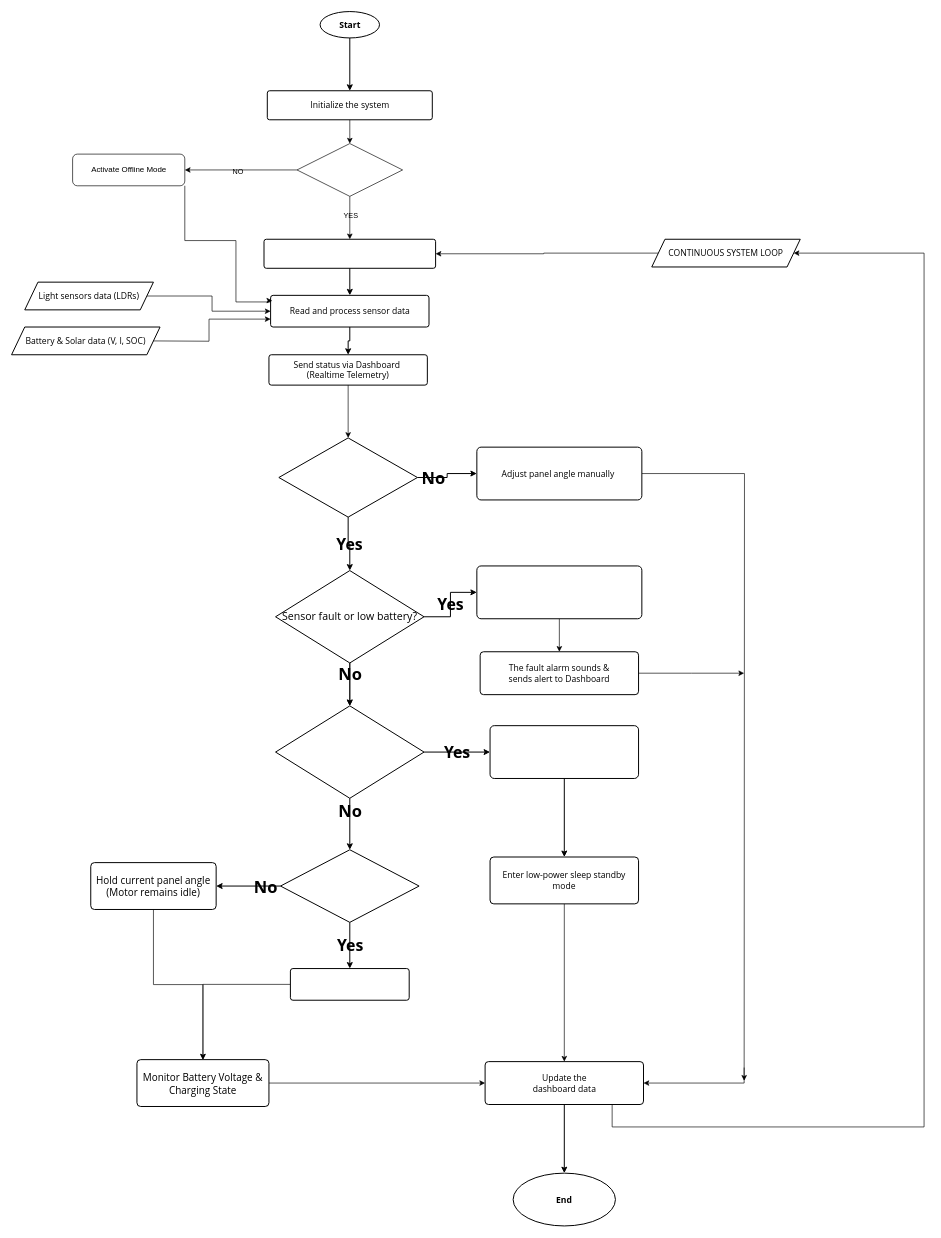
Image size: 941x1238. Some labels were removed from this diagram. The centre of each missing label's shape, as x and y in pixels:
Ambient light below night threshold?: point (349, 751)
Currently Auto mode?: point (348, 477)
Dashboard command: point (349, 253)
Is light difference >= Deadband threshold?: point (349, 886)
Return panel to East position: point (564, 752)
Rotate motor towards brighter side (Track sun): point (349, 984)
Stop motor completely & switch to safe mode: point (559, 592)
WiFi&Firebase Connected &Available?: point (349, 169)
